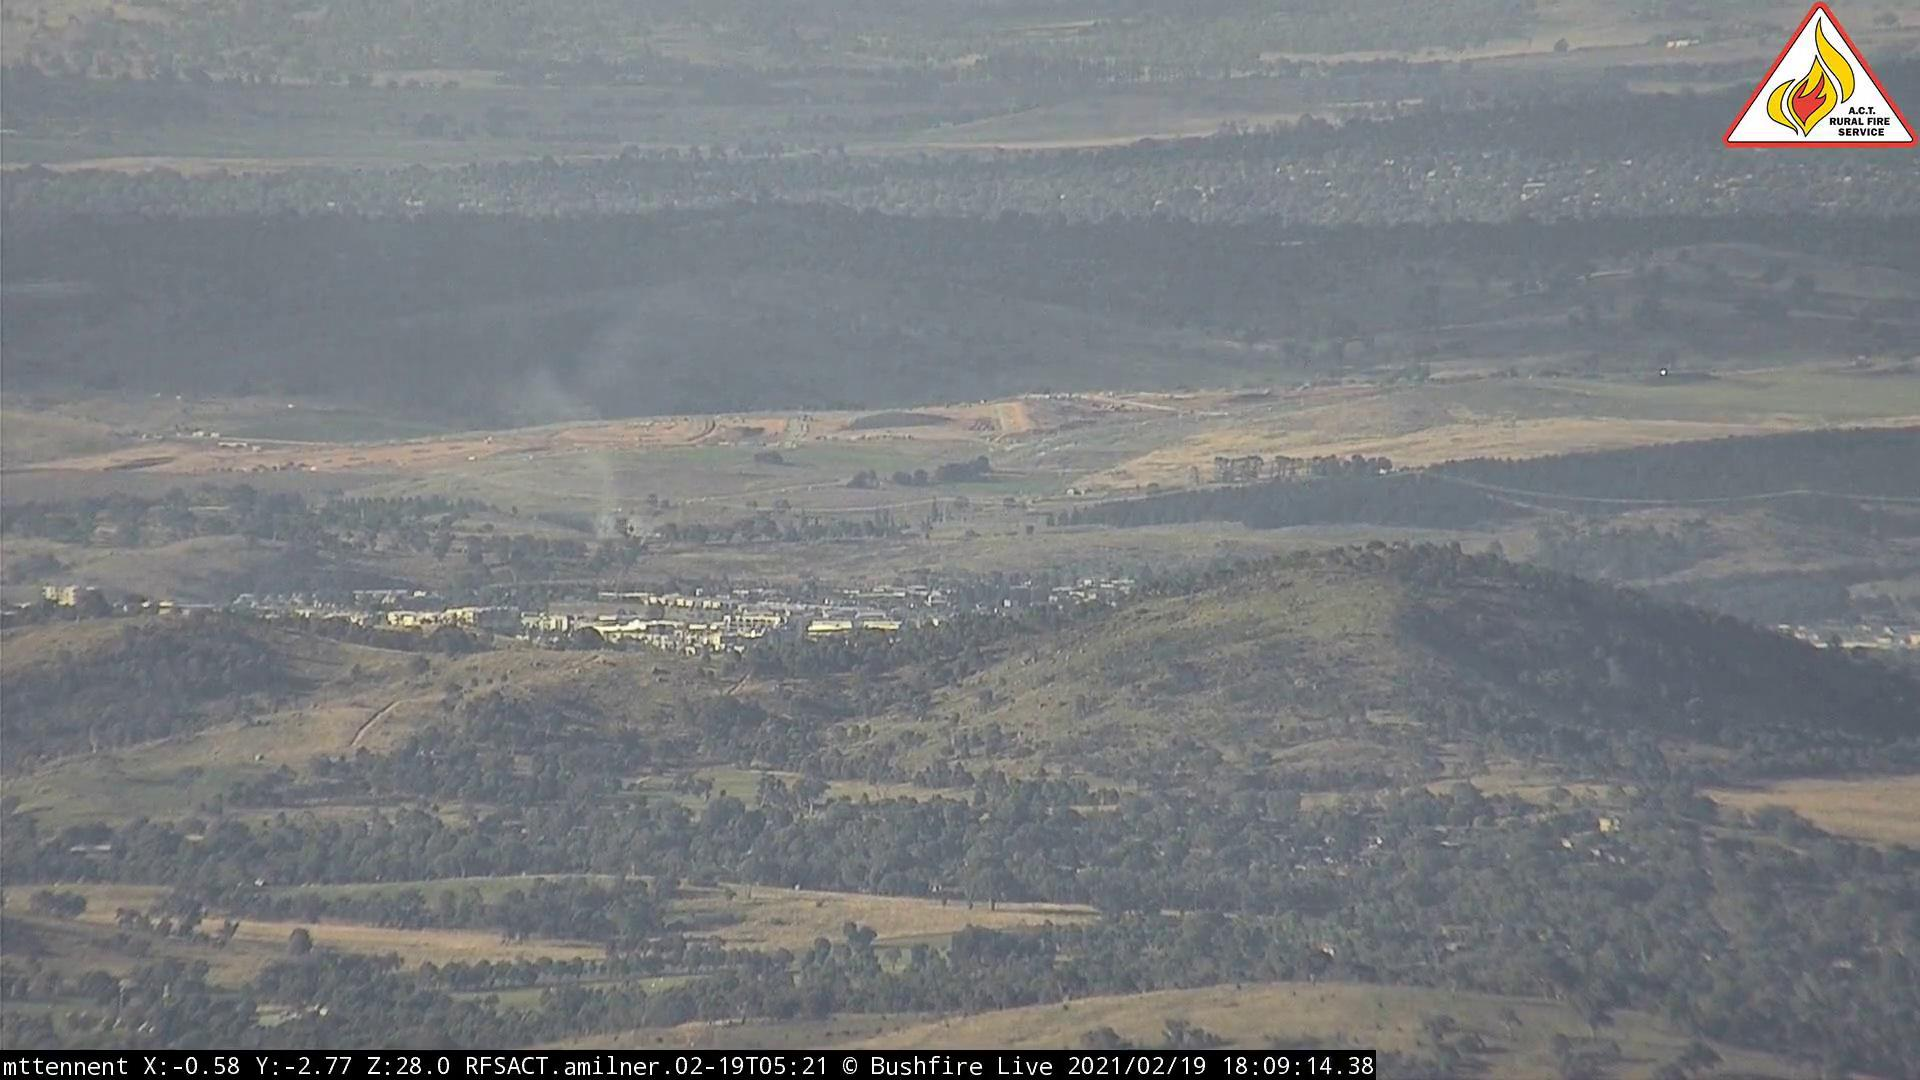instance_salient_object: (589, 493, 647, 539)
